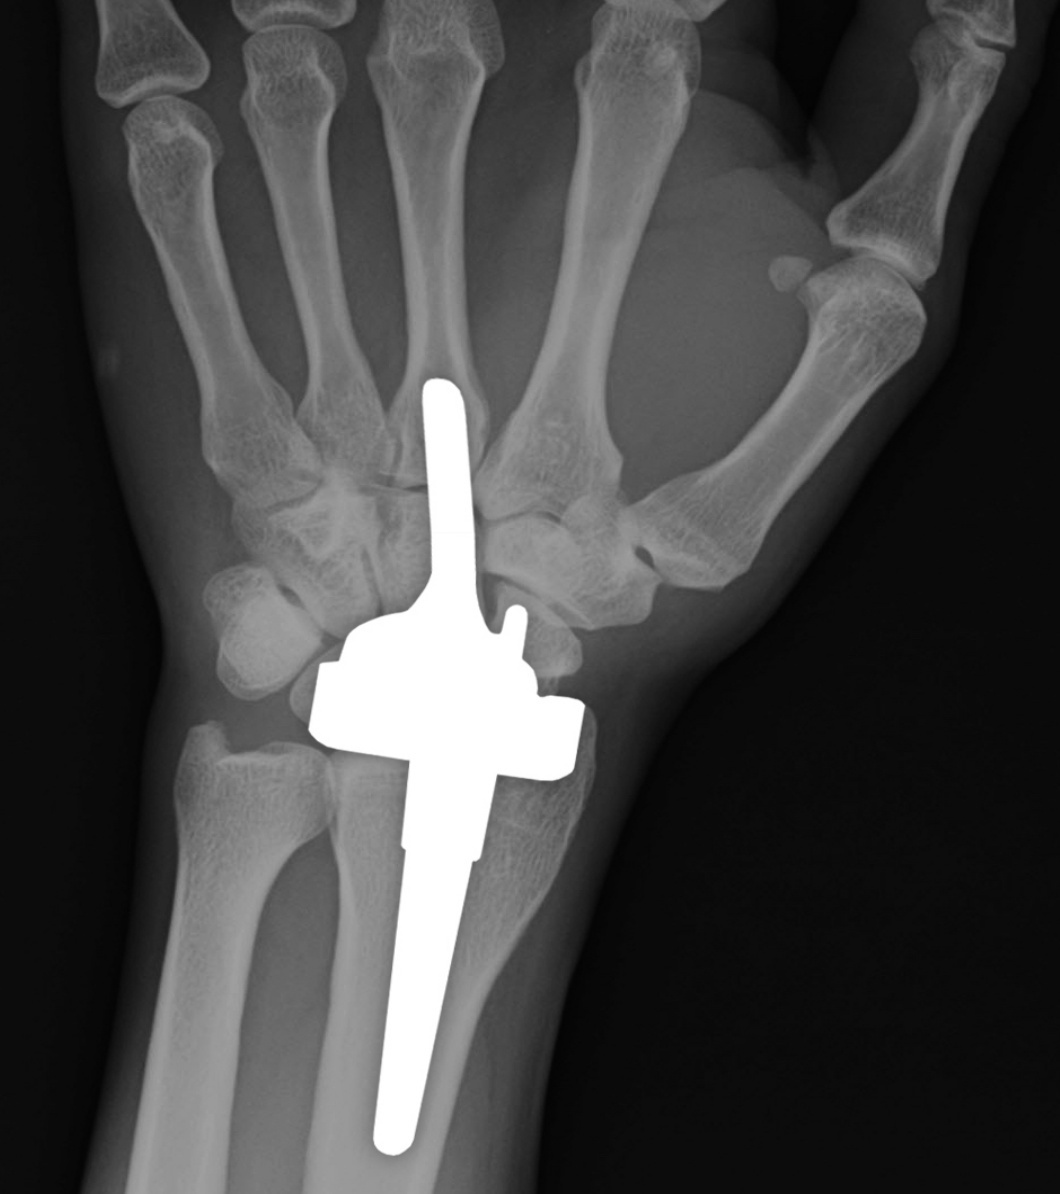Wrist-Biax-DePuuy: (273, 368, 598, 1167)
